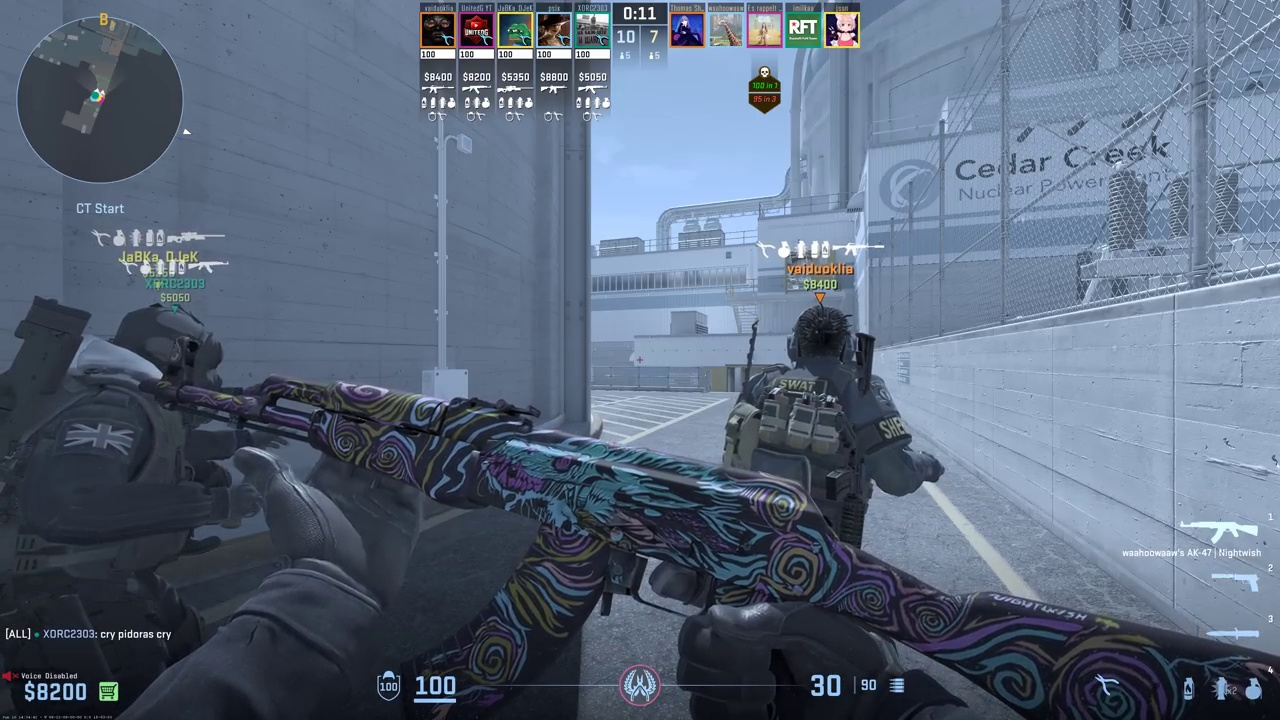CT: (7, 306, 235, 715), (742, 308, 903, 544)
